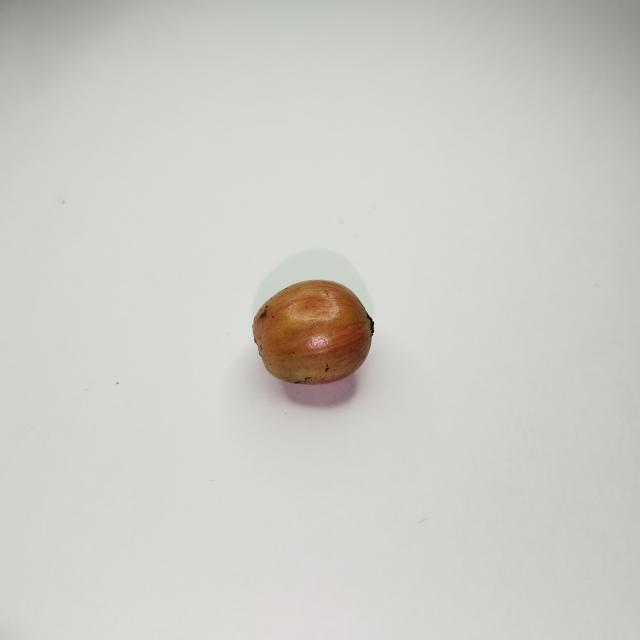Sano: (253, 277, 376, 387)
